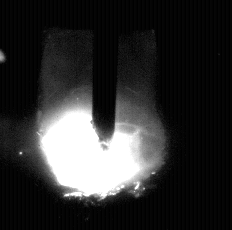arame: (93, 0, 117, 143)
poca: (38, 0, 167, 230)
